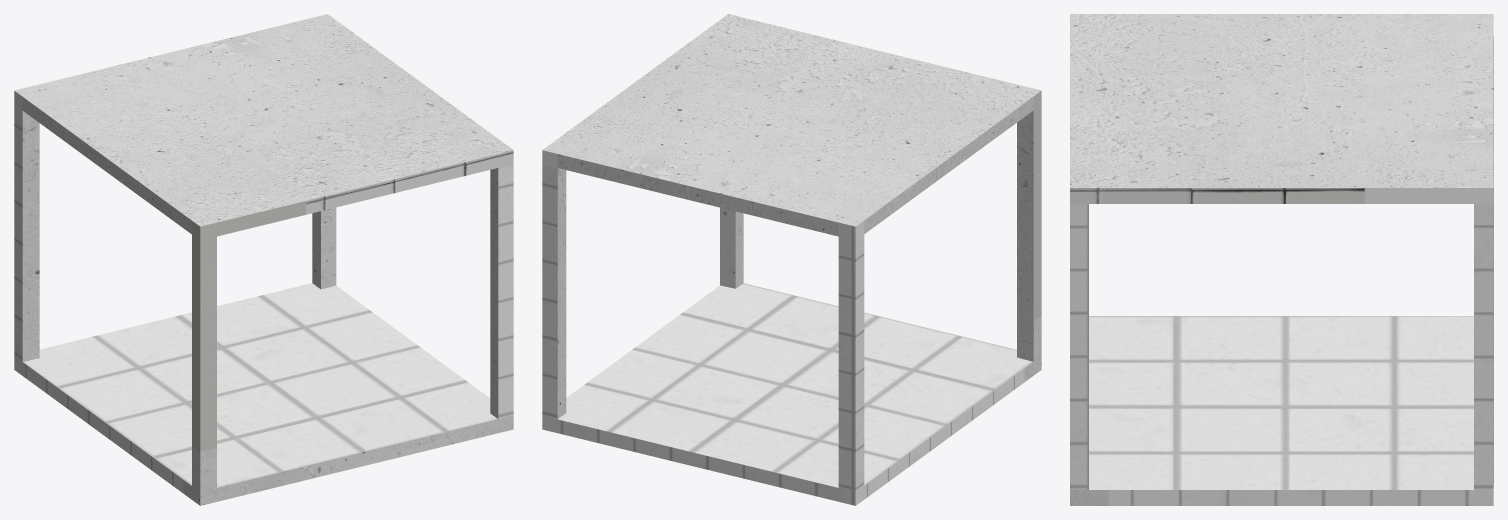
3 renders of one model, left to right at view 1: azimuth 30°, elevation 25°; view 2: azimuth 150°, elevation 25°; view 3: azimuth 270°, elevation 25°, orthographic. The views are drawn at different scales.
Visible parts, largest first — view 1: Corner.001; view 2: Corner.001; view 3: Corner.001.
Boxes of the visible parts, x1,y1,x2,y2 form: Corner.001: (14,14,513,505); Corner.001: (542,14,1041,505); Corner.001: (1070,14,1493,505).
Bounding box in the file's own units: 395 × 336 × 406.
Materials: 1 (1 with a texture image).
